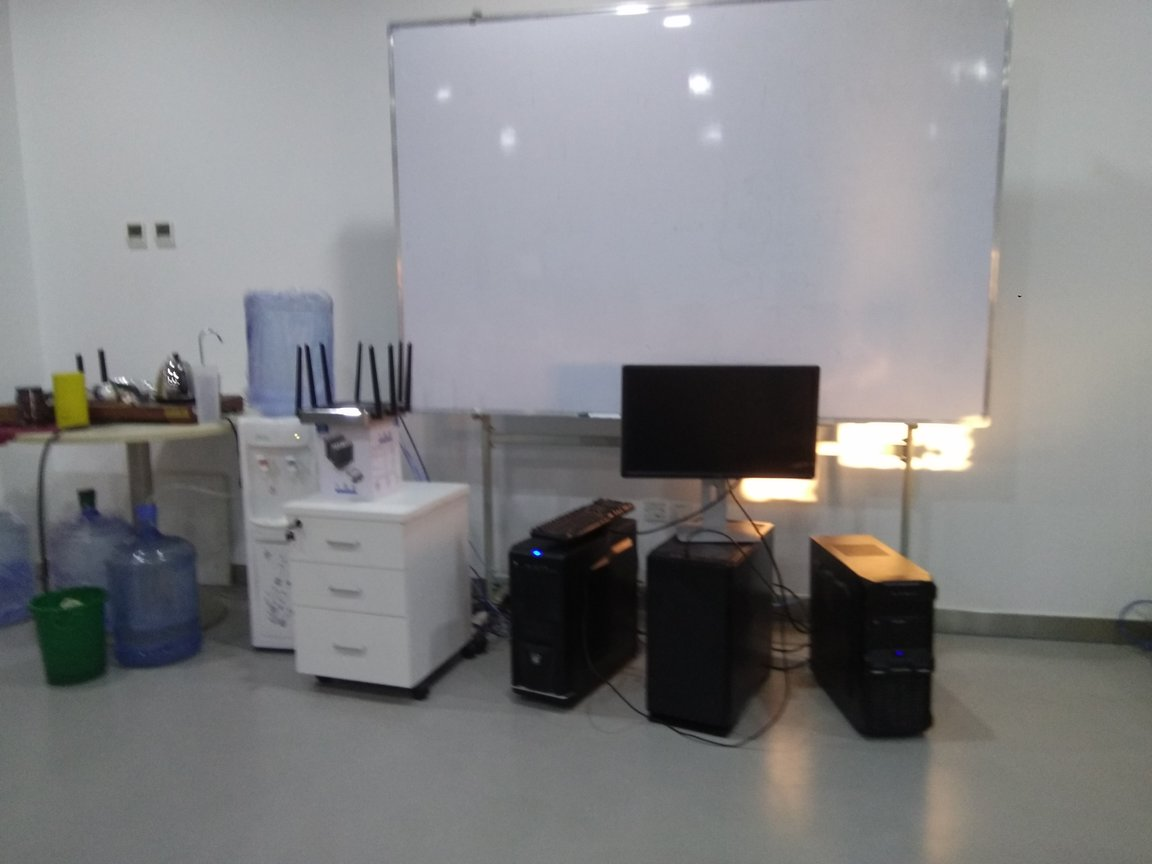computer: (647, 509, 786, 752), (805, 527, 935, 744), (508, 513, 636, 719)
drawer chest: (288, 474, 477, 698)
monitor: (610, 362, 826, 543)
scuttlebutt: (103, 502, 206, 671), (46, 488, 136, 666), (244, 289, 336, 430), (1, 503, 40, 632)
water dispenser: (241, 411, 363, 666)
